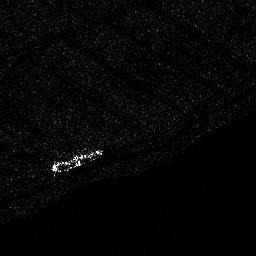ship: (50, 148, 106, 173)
